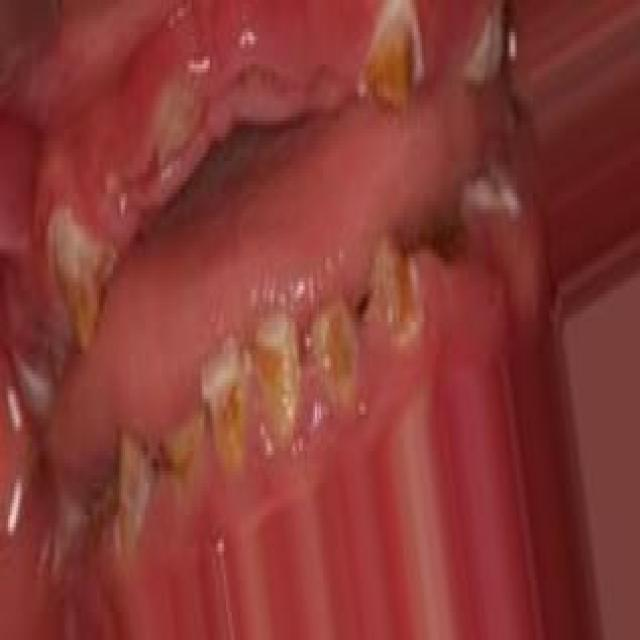caries: (50, 214, 114, 351), (364, 0, 426, 120), (198, 334, 250, 474), (253, 307, 304, 441), (368, 230, 422, 348), (456, 149, 515, 238), (310, 302, 360, 396), (114, 427, 153, 546), (158, 403, 204, 498)
